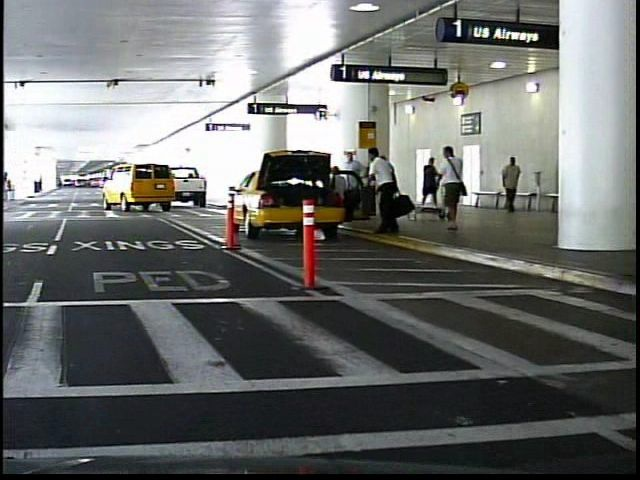person: (434, 145, 470, 233), (493, 151, 518, 213)
